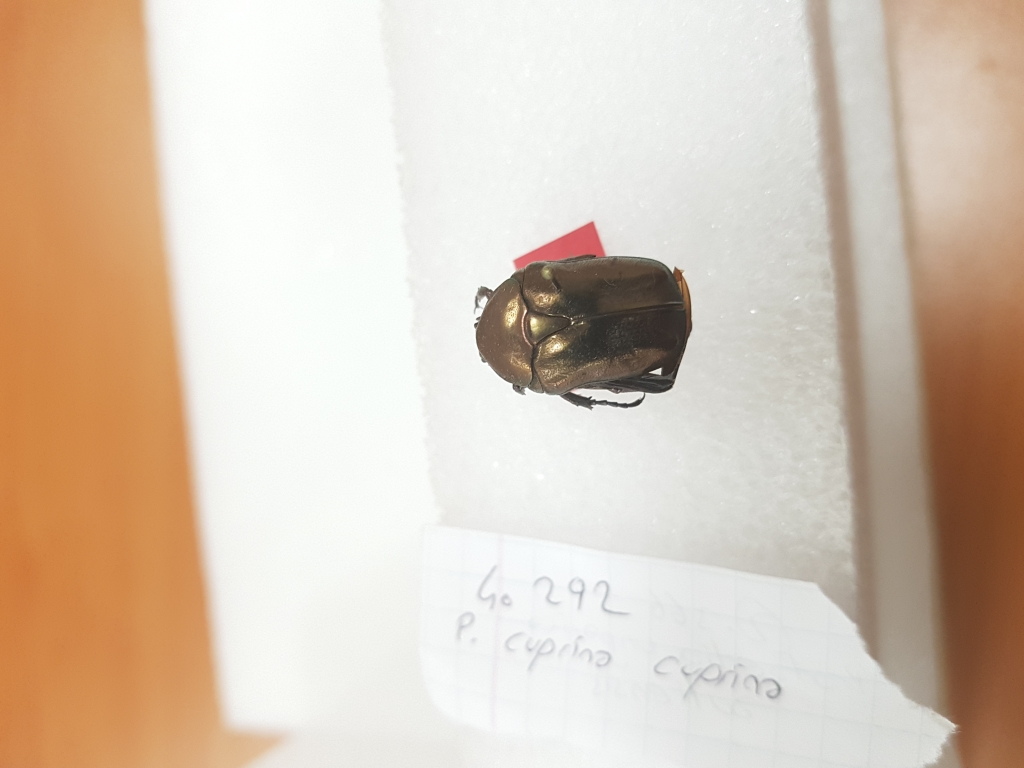Protaetia_cuprina_cuprina: (468, 244, 700, 418)
